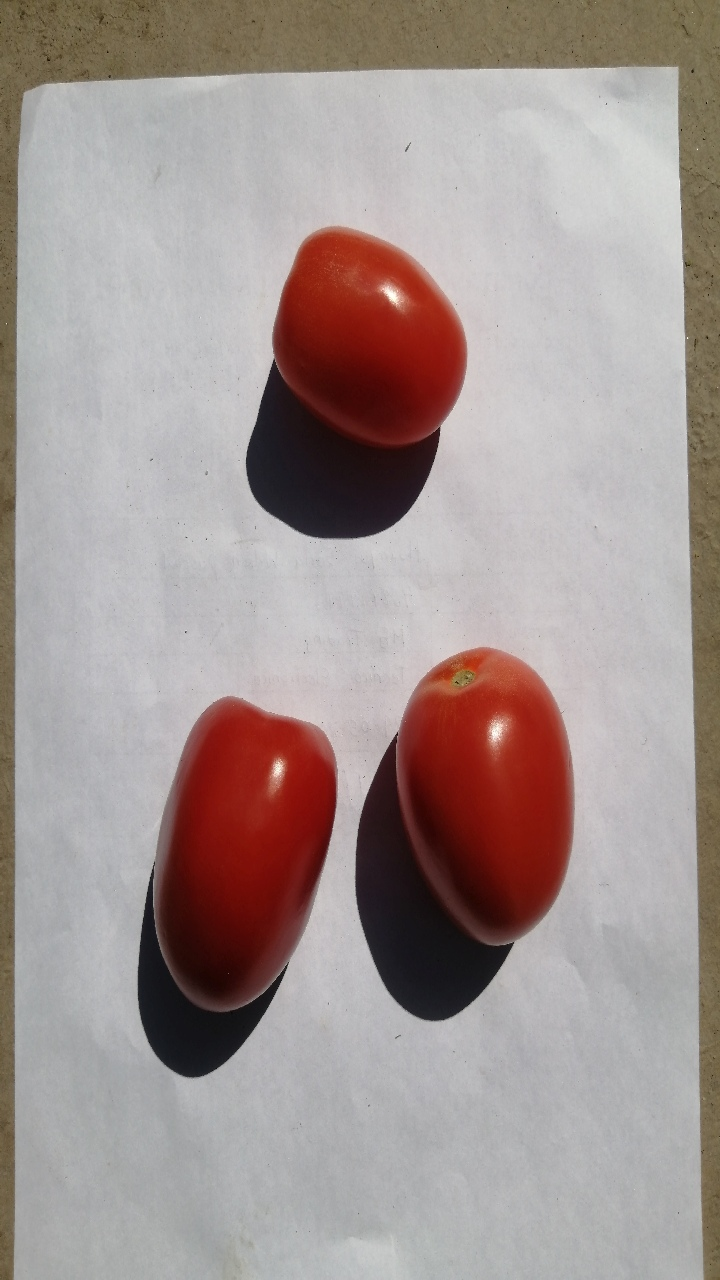tomateRojo: (118, 689, 360, 1043), (372, 643, 601, 963), (241, 194, 486, 449)
